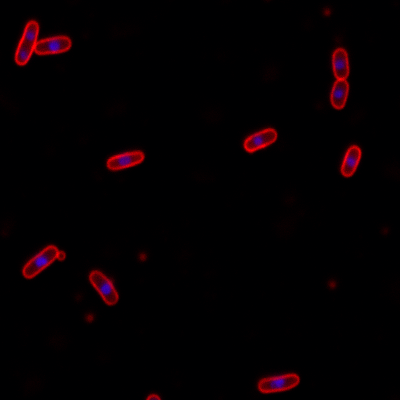CAM: (328, 47, 351, 109), (85, 267, 121, 306), (20, 243, 59, 278), (14, 19, 40, 66), (242, 127, 280, 153), (104, 149, 146, 172), (256, 372, 301, 393), (339, 144, 363, 178), (34, 35, 73, 55), (325, 277, 339, 290), (136, 251, 149, 262), (82, 314, 95, 323), (323, 7, 332, 18)
